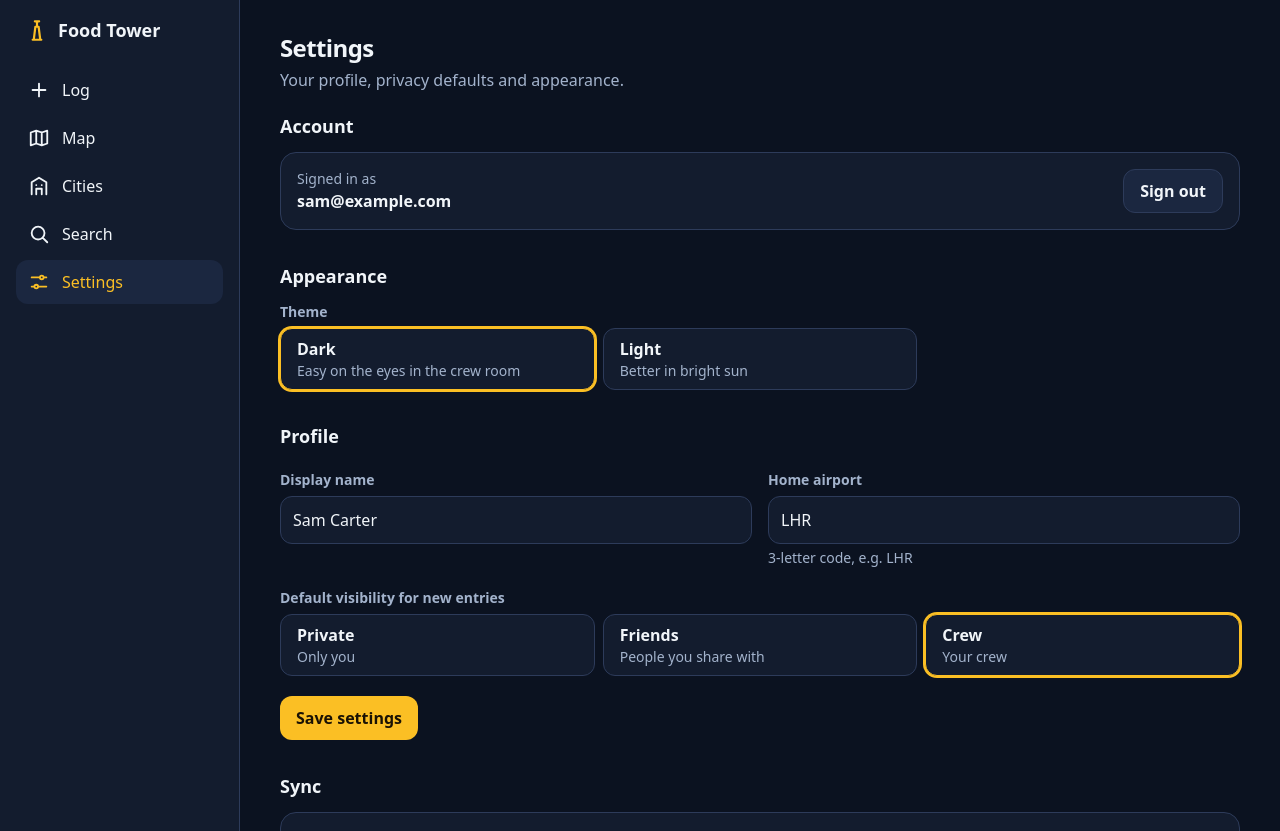
Settings › shows an error if signing out fails
The image size is (1280, 831).
Click the button "Sign out" at (1173, 191), box [1123,169,1223,213]
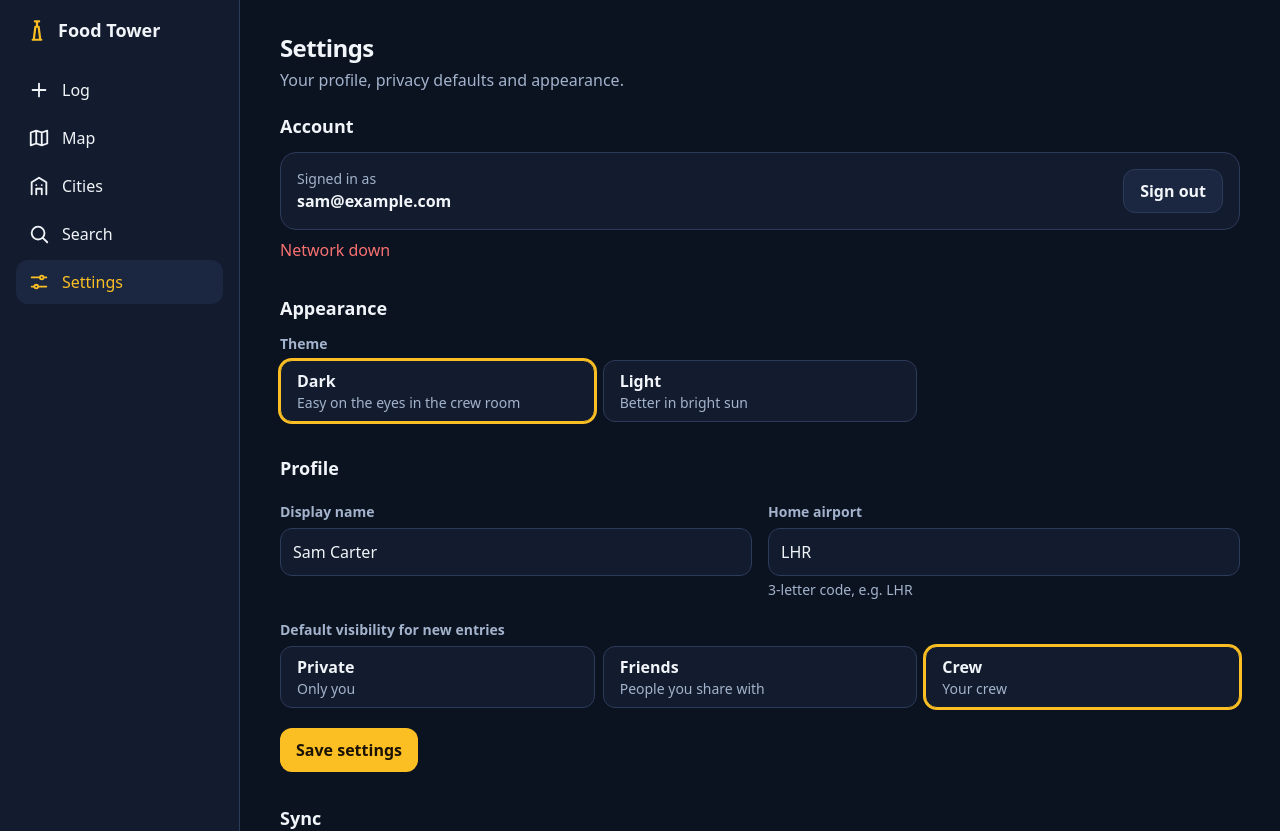
Expected: the message reads "Network down", [280,239,390,261]
